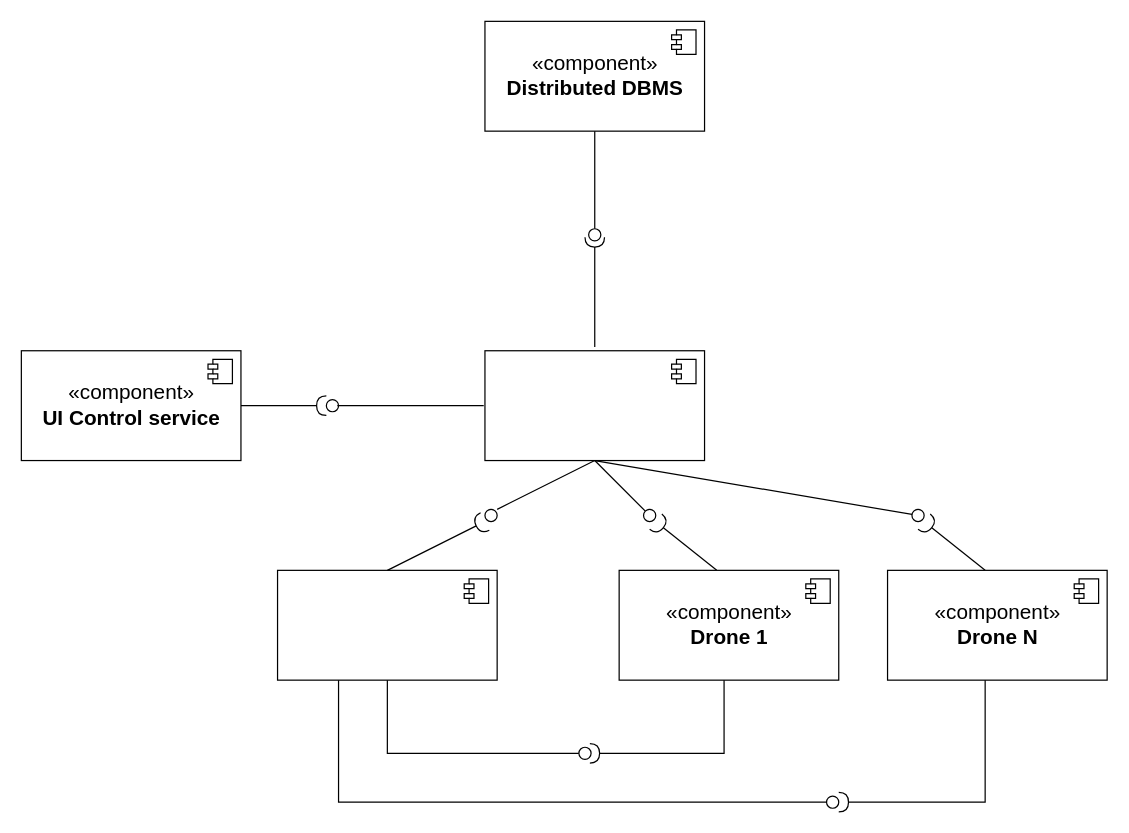
Image size: 1129x833. Some labels were removed from this diagram. The shapes that lost their labels are listed below. From the top down, each one's box as (x1, y1, x2, y2) in pixels, then its label:
(484, 350, 705, 461): «component» Rest API
(276, 569, 497, 680): «component» Drone Hub
